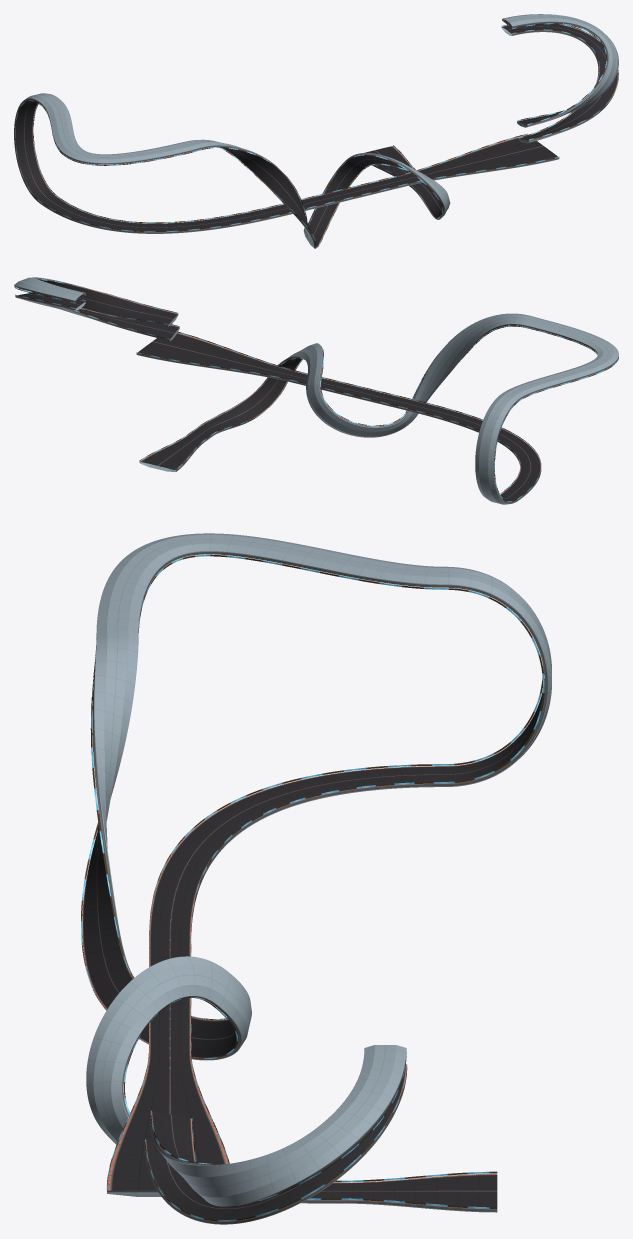
File: TrackA.fbx
3 renders of one model, top to bottom at view 1: azimuth 30°, elevation 25°; view 2: azimuth 150°, elevation 25°; view 3: azimuth 270°, elevation 25°, orthographic. The views are drawn at different scales.
Visible parts, largest first — view 1: A_T_2, A_T_3, A_T_1, A_T_4, A_T_29, A_T_30, A_T_51, A_T_5, A_T_28, A_T_52, A_T_62, A_T_31; view 2: A_T_77, A_T_2, A_T_3, A_T_1, A_T_32, A_T_4, A_T_87, A_T_70, A_T_31, A_T_88, A_T_33, A_T_71 (+12 smaller); view 3: A_T_77, A_T_55, A_T_83, A_T_82, A_T_67, A_T_66, A_T_68, A_T_65, A_T_49, A_T_64, A_T_84, A_T_54 (+23 smaller).
Boxes of the visible parts, left/top/right/bottom form: A_T_2: left=493, top=139, right=540, bottom=166; A_T_3: left=477, top=145, right=521, bottom=169; A_T_1: left=510, top=134, right=559, bottom=163; A_T_4: left=460, top=150, right=501, bottom=172; A_T_29: left=15, top=150, right=40, bottom=176; A_T_30: left=14, top=130, right=34, bottom=154; A_T_51: left=252, top=159, right=281, bottom=185; A_T_5: left=444, top=156, right=480, bottom=175; A_T_28: left=21, top=171, right=48, bottom=193; A_T_52: left=267, top=171, right=291, bottom=199; A_T_62: left=333, top=162, right=361, bottom=185; A_T_31: left=14, top=112, right=34, bottom=134; A_T_77: left=139, top=451, right=187, bottom=471; A_T_2: left=155, top=335, right=202, bottom=362; A_T_3: left=174, top=340, right=218, bottom=365; A_T_1: left=136, top=332, right=185, bottom=358; A_T_32: left=477, top=422, right=501, bottom=447; A_T_4: left=194, top=346, right=235, bottom=368; A_T_87: left=92, top=291, right=118, bottom=316; A_T_70: left=247, top=386, right=275, bottom=414; A_T_31: left=475, top=443, right=495, bottom=468; A_T_88: left=112, top=297, right=138, bottom=320; A_T_33: left=482, top=404, right=509, bottom=426; A_T_71: left=231, top=399, right=259, bottom=423; A_T_77: left=436, top=1173, right=497, bottom=1212; A_T_55: left=82, top=932, right=130, bottom=986; A_T_83: left=258, top=1144, right=309, bottom=1197; A_T_82: left=291, top=1125, right=350, bottom=1177; A_T_67: left=86, top=1028, right=136, bottom=1073; A_T_66: left=97, top=990, right=154, bottom=1041; A_T_68: left=86, top=1071, right=126, bottom=1120; A_T_65: left=122, top=963, right=177, bottom=1016; A_T_49: left=92, top=685, right=133, bottom=734; A_T_64: left=157, top=956, right=203, bottom=1000; A_T_84: left=226, top=1157, right=266, bottom=1205; A_T_54: left=82, top=891, right=119, bottom=937.
Bounding box in the file's own units: 751 × 189 × 268.
